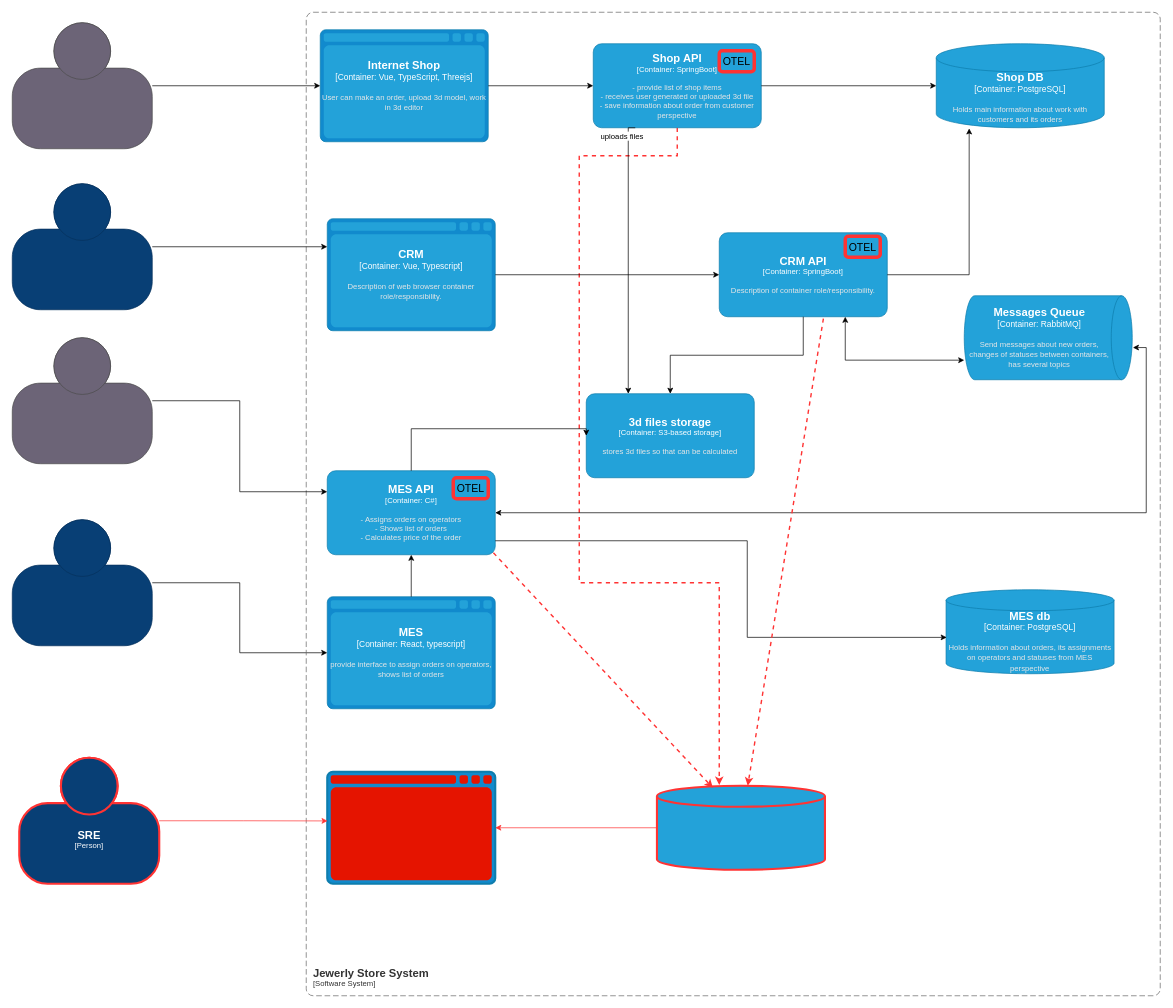
Image size: 1173x1008. Some labels were removed from this diagram. The centre of each missing label's shape, as x and y in pixels:
API user [Person] Description of external person.: pixel 82 400
Customer [Person] Description of external person.: pixel 82 85
Jaeger [Container: ]: pixel 741 827
Jaeger UI [Container: Browser] provide interface to tracing data: pixel 411 827
Operator [Person] Takes order in work, manufactures jewerly: pixel 82 582
Seller [Person] Operates with order, confirms manufacturing for the user: pixel 82 246
